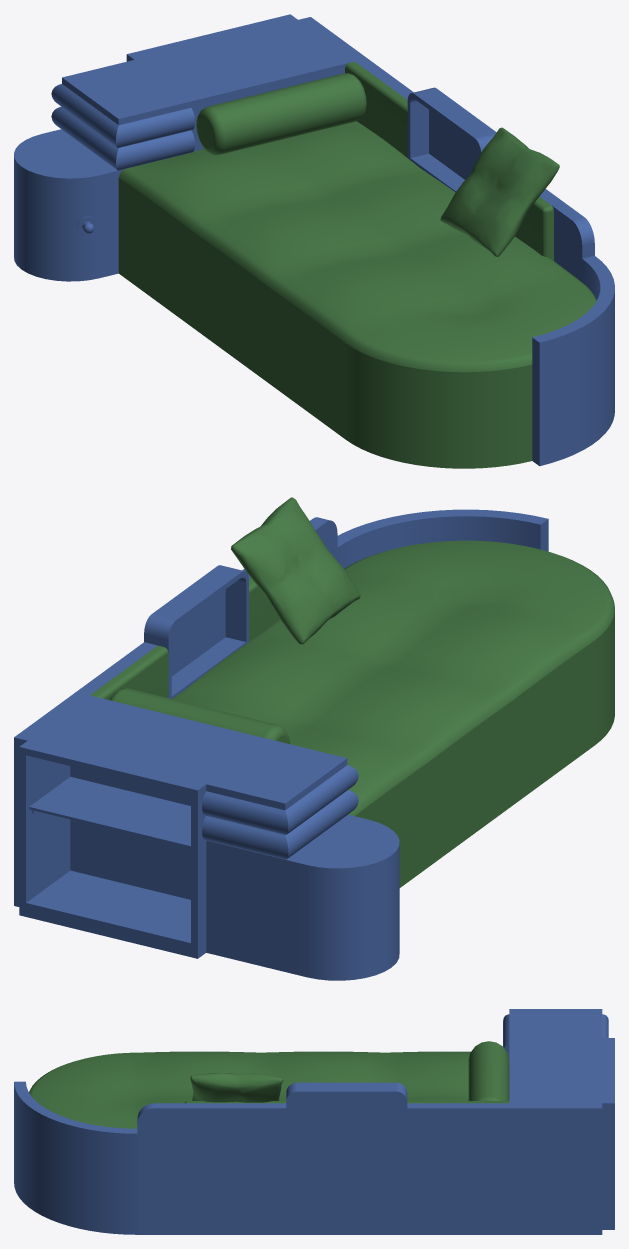
Rendered from SM_Bed_02c.fbx.
3 renders of one model, top to bottom at view 1: azimuth 30°, elevation 25°; view 2: azimuth 150°, elevation 25°; view 3: azimuth 270°, elevation 25°, orthographic. The views are drawn at different scales.
Parts seen in each view (by area): view 1: SM_Bed_02c; view 2: SM_Bed_02c; view 3: SM_Bed_02c.
Boxes of the visible parts, x1,y1,x2,y2 form: SM_Bed_02c: (14, 14, 614, 468); SM_Bed_02c: (14, 497, 614, 980); SM_Bed_02c: (14, 1009, 614, 1234).
Size of the model in its own units: 203 by 117 by 404.
